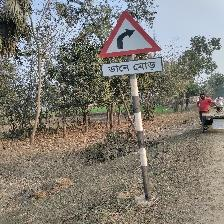Right-turn: (98, 10, 163, 77)
